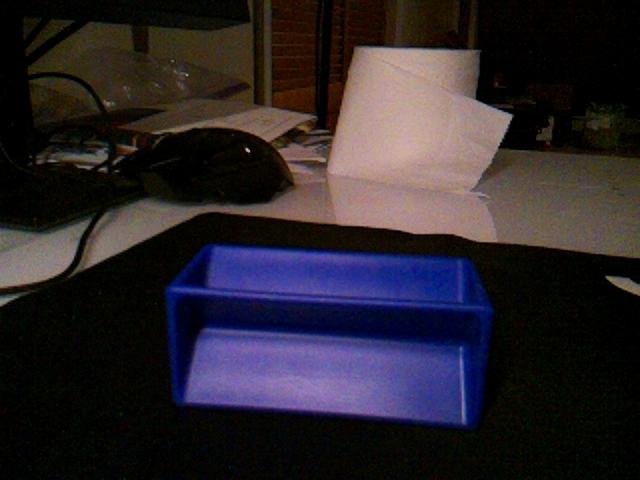blue: (164, 241, 495, 431)
